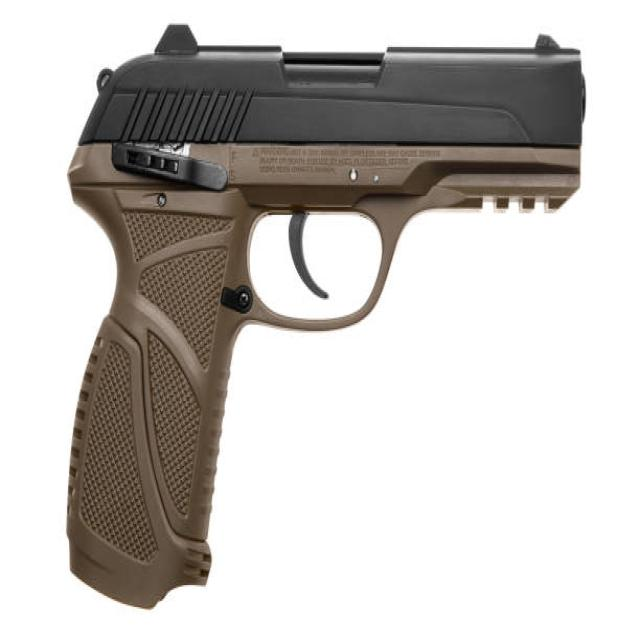pistol: (55, 11, 598, 619)
